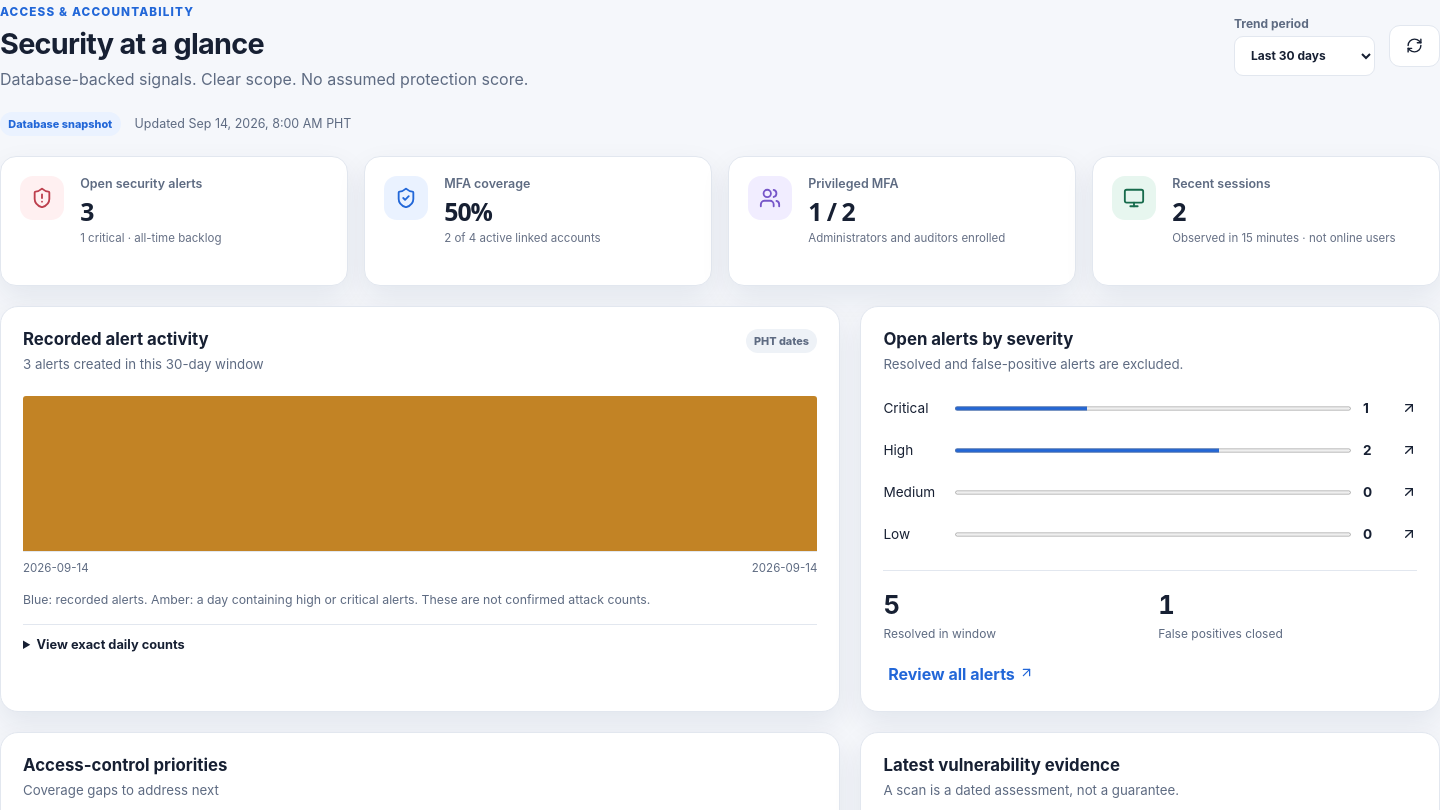
it: security overview data and recovery states › keeps the last snapshot explicitly stale after a failed refresh and can retry
Expected: the text "50%" is shown, [444,194,492,228]
Click the button named "Refresh security statistics".
click(1414, 46)  # box [1389,25,1439,67]
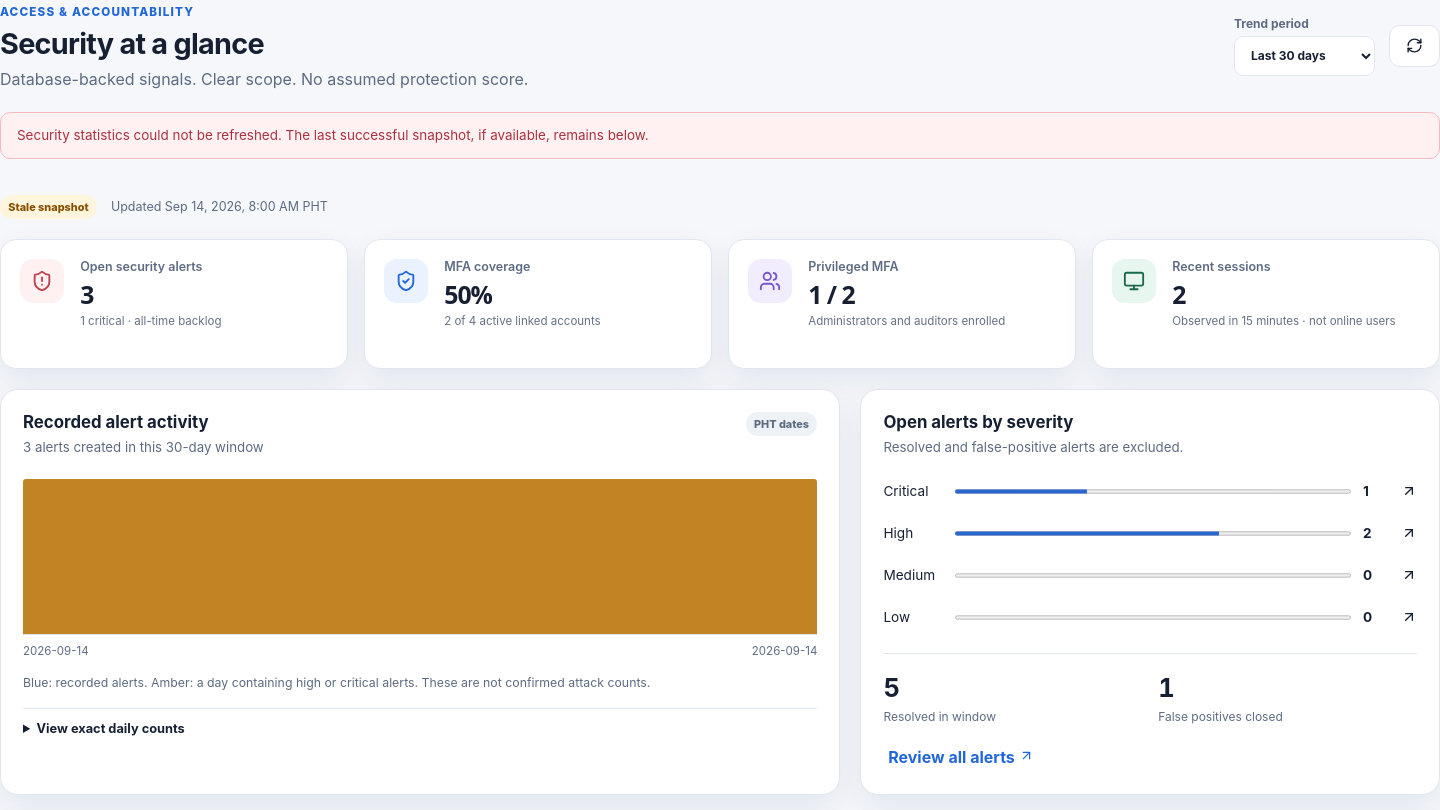
Expected: the text "50%" is shown, [444,277,492,311]
Now the message shows "could not be refreshed", box [17,127,649,143]
Now the text "Stale snapshot" is shown, box [0,195,97,219]
Click the button named "Refresh security statistics".
click(1414, 46)  # box [1389,25,1439,67]
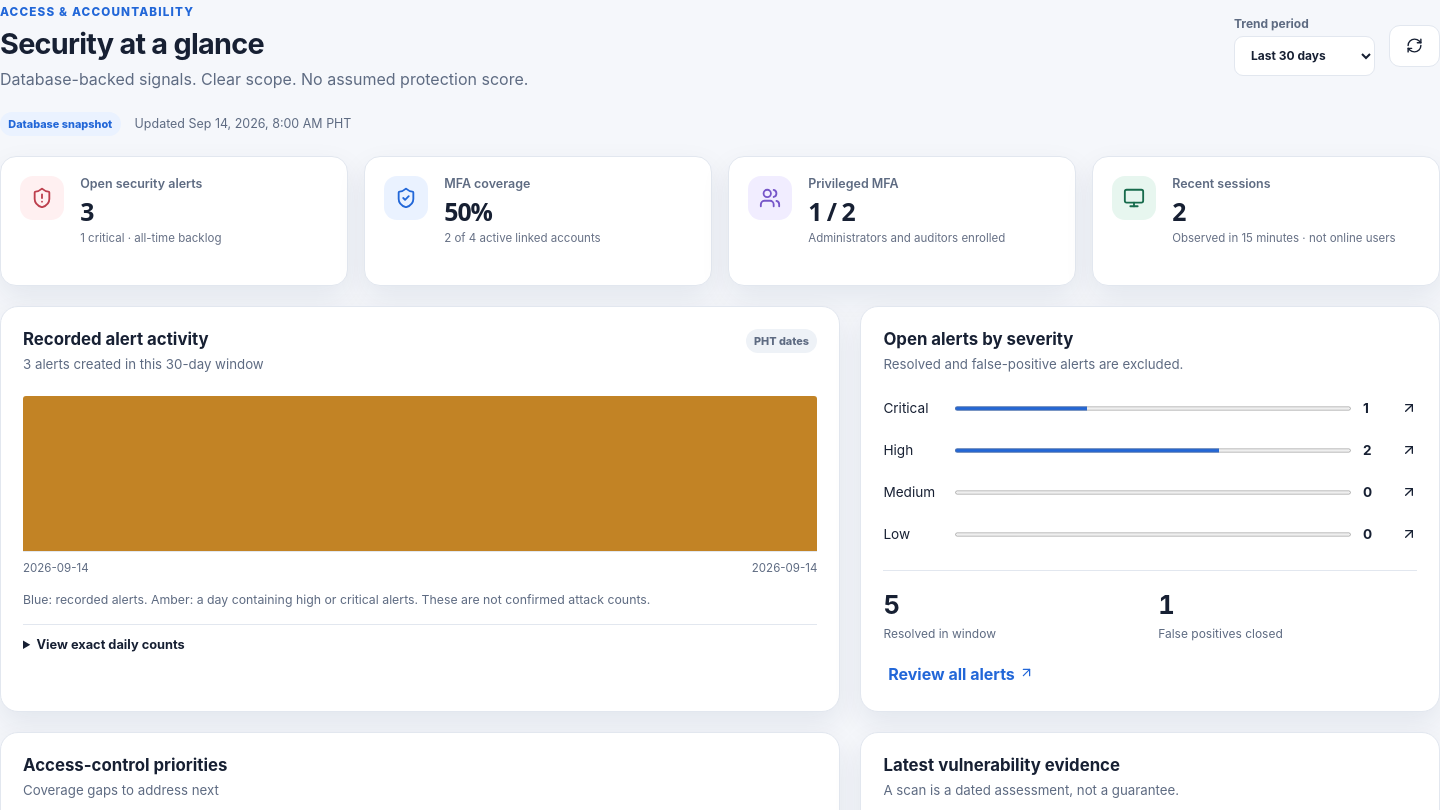
Now the message is gone
